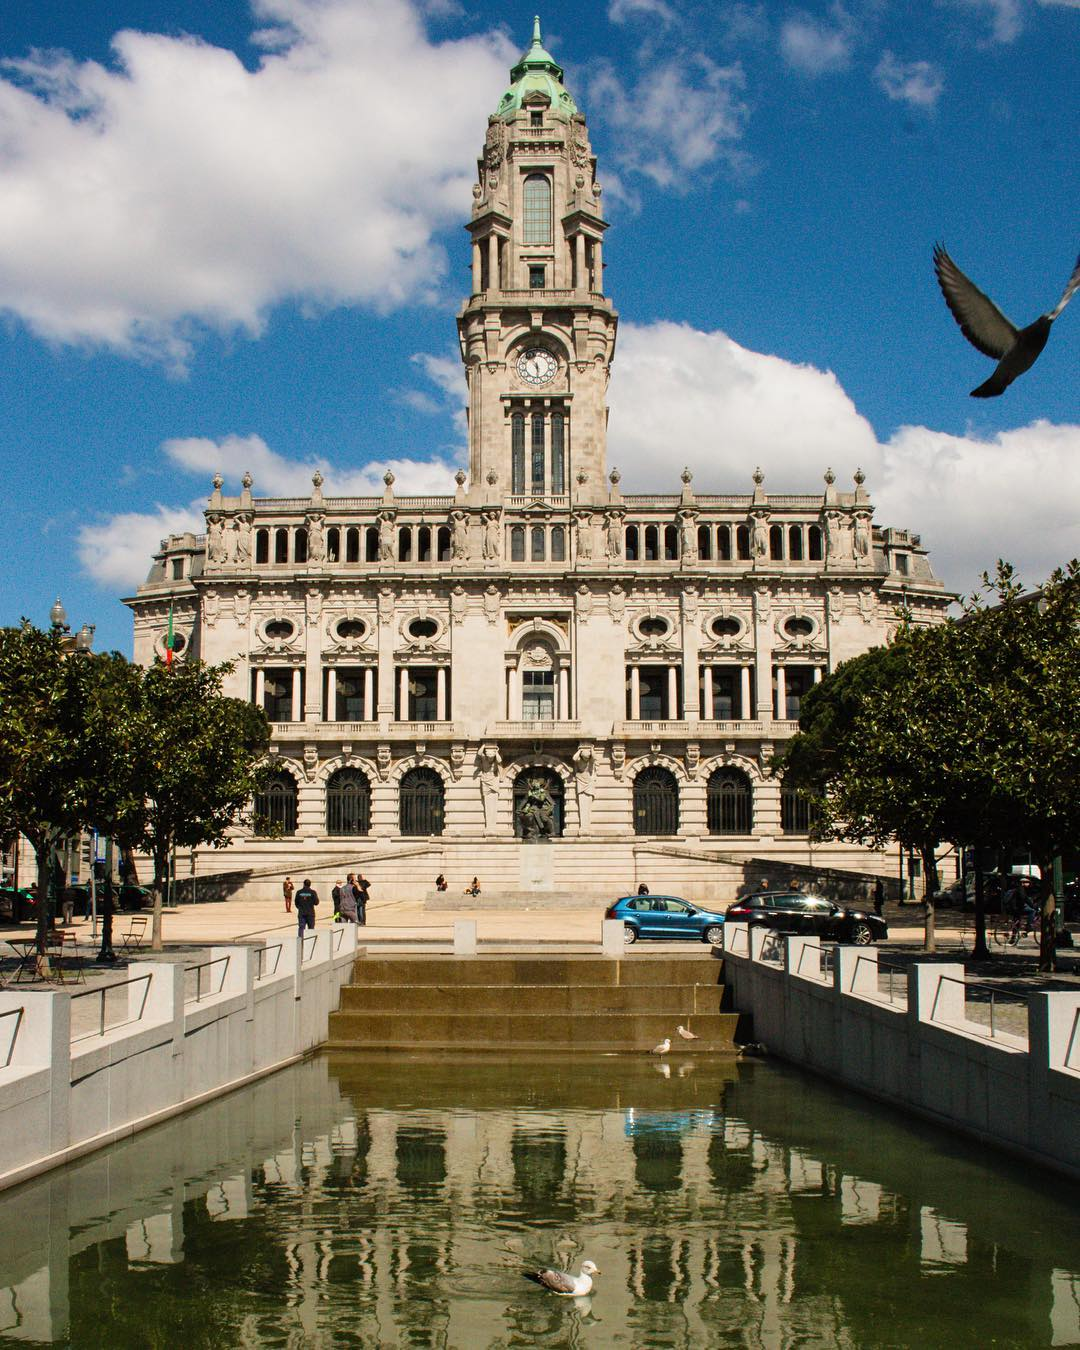camara: (117, 6, 968, 883)
